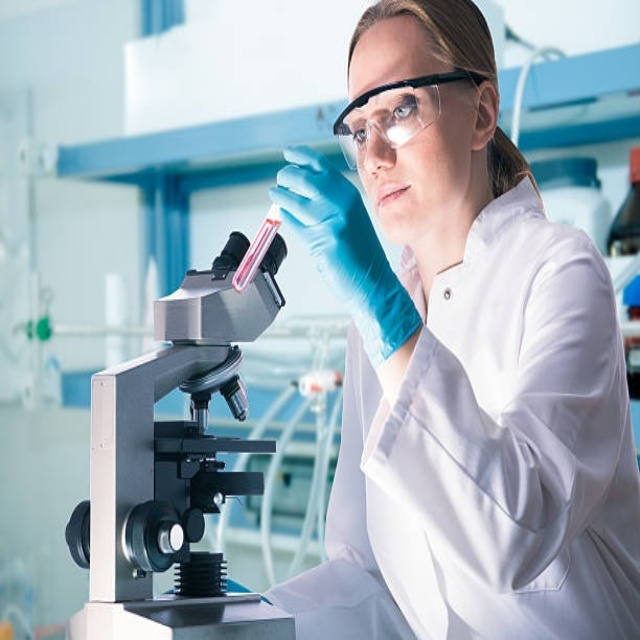Gafas: (334, 79, 465, 171)
Guantes: (269, 145, 422, 368)
Sin_mascara: (365, 175, 438, 242)
